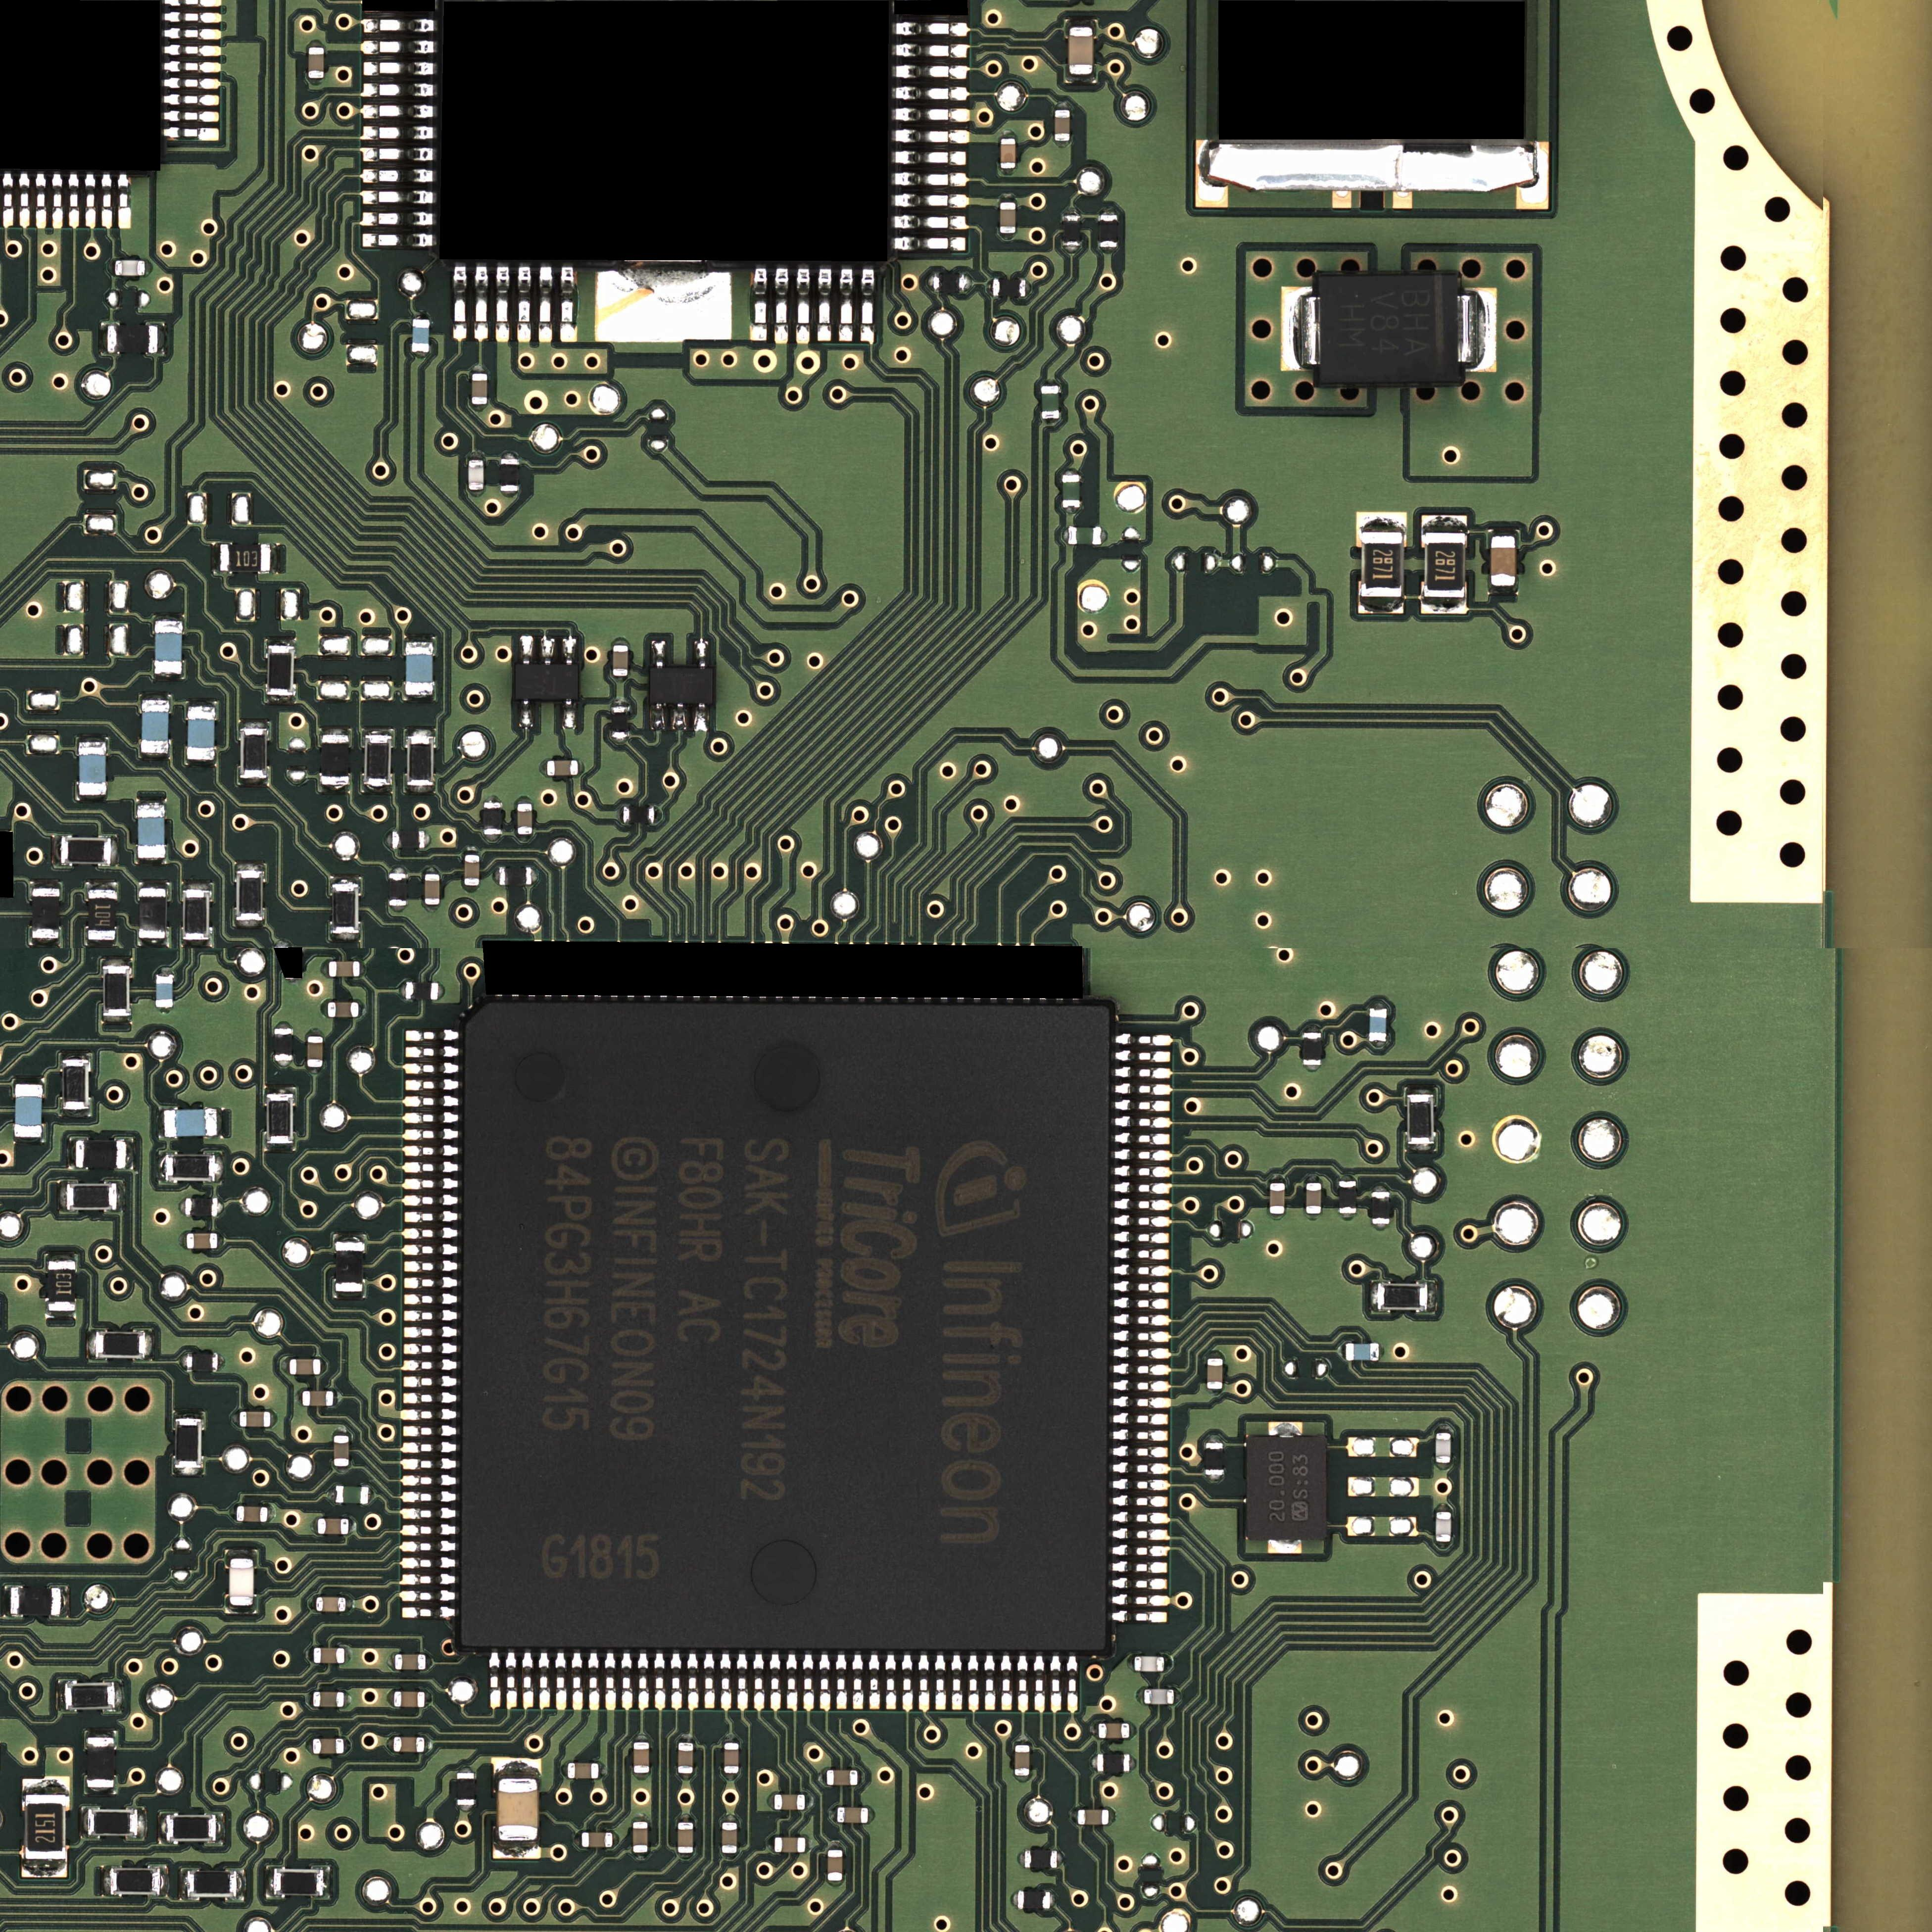Package: (462, 1007, 1108, 1645), (1306, 272, 1474, 386), (1244, 1435, 1327, 1539), (25, 1794, 67, 1859), (1361, 533, 1403, 598), (1424, 533, 1465, 598), (497, 1778, 538, 1840), (649, 667, 713, 702), (515, 663, 579, 699), (154, 621, 182, 674), (405, 642, 433, 695), (14, 1085, 42, 1138), (188, 706, 214, 759), (142, 701, 168, 754), (138, 805, 165, 858), (32, 888, 60, 938), (320, 734, 349, 784), (11, 1587, 60, 1615), (87, 1737, 115, 1787), (76, 1139, 126, 1168), (336, 1242, 364, 1292), (1378, 1283, 1428, 1311), (80, 743, 106, 794), (60, 839, 111, 865), (219, 545, 271, 571), (165, 1109, 216, 1136), (108, 326, 157, 352), (267, 646, 294, 695), (88, 890, 115, 939), (140, 888, 166, 938), (407, 736, 433, 786), (364, 736, 391, 786), (241, 729, 267, 778), (48, 1261, 74, 1311), (65, 1683, 115, 1709), (67, 1184, 117, 1210), (96, 1330, 145, 1357), (166, 1815, 216, 1842), (188, 1870, 235, 1897), (333, 883, 357, 932), (184, 890, 209, 939), (237, 870, 262, 920), (88, 1810, 138, 1835), (267, 1093, 292, 1143), (110, 1868, 159, 1893), (104, 966, 129, 1016), (64, 1060, 88, 1109), (1491, 536, 1516, 586), (274, 1870, 322, 1895), (175, 1419, 200, 1467), (166, 1155, 214, 1180), (1069, 27, 1093, 74), (1408, 1095, 1433, 1143), (230, 1559, 253, 1605), (483, 801, 502, 835), (932, 272, 966, 292), (993, 278, 1026, 297), (1040, 386, 1060, 419), (1371, 1191, 1391, 1224), (1205, 1442, 1224, 1476), (186, 1198, 218, 1217), (1099, 216, 1118, 248), (1097, 1753, 1129, 1773), (1024, 1849, 1056, 1868), (1338, 1182, 1357, 1214), (412, 318, 430, 352), (499, 867, 533, 885), (501, 458, 518, 492), (458, 1773, 476, 1806), (1062, 474, 1079, 508), (1369, 1008, 1387, 1042), (156, 975, 173, 1007), (389, 874, 407, 906), (393, 832, 425, 849), (336, 1486, 368, 1504), (274, 1028, 292, 1060), (1069, 527, 1100, 545), (1304, 1033, 1322, 1065), (1346, 1343, 1378, 1361), (1017, 1891, 1049, 1909), (405, 982, 437, 1000), (188, 1353, 218, 1371), (1063, 216, 1081, 246), (472, 373, 488, 405), (612, 706, 628, 738), (623, 807, 655, 823), (826, 1769, 858, 1785), (239, 1412, 271, 1428), (313, 1647, 345, 1663), (678, 1743, 694, 1775), (1000, 202, 1016, 234), (1054, 110, 1070, 142), (1077, 1808, 1109, 1824), (329, 961, 359, 977), (612, 646, 628, 676), (517, 803, 533, 833), (115, 260, 145, 276), (464, 855, 479, 885), (469, 460, 485, 490), (308, 48, 324, 78), (313, 1691, 343, 1707), (313, 1737, 343, 1753), (582, 1831, 612, 1847), (290, 1359, 320, 1375), (188, 1233, 218, 1249), (327, 1001, 357, 1017), (395, 1691, 425, 1707), (568, 1762, 598, 1778), (775, 1794, 805, 1810), (303, 1391, 333, 1407), (837, 1806, 867, 1822), (395, 1654, 425, 1670), (678, 1822, 694, 1852), (237, 1506, 267, 1522), (306, 1037, 322, 1067), (318, 1518, 349, 1534), (724, 1743, 740, 1773), (775, 1836, 805, 1852), (722, 1822, 738, 1852), (633, 1743, 649, 1773), (1207, 1359, 1223, 1389), (1099, 1723, 1129, 1739), (1145, 1688, 1175, 1704), (1435, 1511, 1451, 1541), (1306, 1184, 1322, 1214), (1435, 1433, 1451, 1463), (1134, 1656, 1164, 1672), (547, 761, 579, 775), (393, 1737, 425, 1752), (317, 1596, 345, 1612), (334, 1435, 349, 1467), (1016, 1744, 1030, 1776), (425, 874, 439, 904), (828, 1851, 842, 1881), (633, 1822, 648, 1852), (1001, 138, 1016, 168), (1270, 1184, 1284, 1214)
Solder: (1198, 142, 1550, 209), (596, 269, 731, 341), (1477, 287, 1499, 373), (1283, 287, 1300, 372), (750, 267, 768, 341), (892, 193, 968, 209), (517, 265, 533, 341), (561, 265, 577, 341), (860, 267, 876, 341), (893, 42, 968, 58), (363, 211, 437, 226), (495, 265, 510, 343), (474, 264, 488, 341), (453, 264, 467, 341), (538, 264, 552, 341), (796, 267, 810, 343), (893, 87, 968, 101), (893, 65, 968, 80), (893, 108, 968, 122), (893, 129, 968, 143), (893, 172, 968, 186), (893, 150, 968, 165), (893, 235, 968, 249), (893, 214, 968, 228), (839, 267, 853, 341), (817, 267, 832, 341), (363, 41, 437, 55), (363, 62, 437, 76), (363, 83, 437, 97), (363, 126, 437, 140), (363, 147, 437, 161), (363, 168, 437, 182), (363, 104, 437, 119), (363, 189, 437, 203), (893, 21, 966, 35), (364, 19, 437, 34), (363, 234, 435, 248), (492, 1759, 541, 1778), (492, 1840, 541, 1859), (1357, 511, 1407, 531), (775, 265, 787, 343), (21, 1859, 67, 1877), (1421, 515, 1467, 533), (23, 1778, 69, 1794), (1359, 598, 1405, 614), (1421, 598, 1467, 614), (163, 44, 221, 57), (163, 127, 221, 140), (522, 1649, 534, 1707), (587, 1651, 600, 1709), (571, 1651, 584, 1709), (671, 1651, 683, 1709), (621, 1651, 633, 1709), (637, 1651, 649, 1709), (918, 1652, 931, 1711), (934, 1652, 947, 1711), (984, 1652, 996, 1711), (968, 1652, 980, 1711), (1001, 1652, 1014, 1711), (1017, 1652, 1030, 1711), (950, 1652, 962, 1711), (1067, 1652, 1079, 1711), (119, 172, 131, 228), (101, 172, 113, 228), (85, 172, 97, 228), (67, 172, 80, 228), (34, 172, 46, 228), (18, 172, 30, 228), (2, 172, 14, 228), (51, 172, 64, 228), (538, 1651, 550, 1707), (720, 1652, 732, 1709), (736, 1652, 748, 1709), (869, 1652, 881, 1709), (819, 1652, 832, 1709), (835, 1652, 847, 1709), (770, 1652, 782, 1709), (163, 12, 221, 23), (163, 28, 221, 39), (163, 62, 221, 73), (163, 94, 221, 104), (163, 111, 221, 122), (163, 78, 221, 88), (490, 1649, 501, 1707), (506, 1649, 517, 1707), (556, 1651, 566, 1709), (688, 1651, 699, 1709), (853, 1652, 863, 1711), (902, 1652, 913, 1711), (754, 1651, 764, 1709), (803, 1652, 814, 1711), (1035, 1652, 1046, 1711), (405, 1030, 462, 1040), (405, 1063, 462, 1074), (405, 1079, 462, 1090), (403, 1097, 460, 1108), (403, 1113, 460, 1123), (403, 1145, 460, 1155), (403, 1178, 460, 1189), (402, 1392, 458, 1403), (402, 1458, 458, 1468), (605, 1652, 616, 1709), (704, 1652, 715, 1709), (655, 1652, 665, 1709), (886, 1652, 897, 1709), (787, 1652, 798, 1709), (1051, 1654, 1062, 1711), (1113, 1445, 1169, 1456), (1113, 1463, 1169, 1474), (1113, 1414, 1169, 1424), (1113, 1299, 1169, 1309), (1113, 1281, 1169, 1292), (1113, 1265, 1169, 1276), (1115, 1215, 1171, 1226), (1115, 1200, 1171, 1210), (1115, 1166, 1171, 1177), (1115, 1150, 1171, 1161), (1115, 1085, 1171, 1095), (1111, 1612, 1168, 1622), (405, 1129, 460, 1139), (403, 1277, 458, 1288), (403, 1261, 458, 1272), (403, 1244, 458, 1254), (403, 1228, 458, 1238), (405, 1162, 460, 1173), (402, 1442, 456, 1453), (402, 1408, 456, 1419), (403, 1376, 458, 1387), (403, 1359, 458, 1369), (403, 1343, 458, 1353), (403, 1327, 458, 1338), (403, 1309, 458, 1320), (403, 1293, 458, 1304), (403, 1474, 458, 1484), (403, 1491, 458, 1502), (403, 1507, 458, 1518), (402, 1541, 456, 1552), (402, 1557, 456, 1568), (402, 1573, 456, 1583), (402, 1589, 456, 1599), (402, 1606, 456, 1617), (1113, 1430, 1168, 1440), (1115, 1380, 1169, 1391), (1115, 1364, 1169, 1375), (1115, 1348, 1169, 1359), (1115, 1330, 1169, 1341), (1115, 1315, 1169, 1325), (1115, 1249, 1169, 1260), (1115, 1233, 1169, 1244), (1115, 1134, 1169, 1145), (1115, 1100, 1169, 1111), (1116, 1051, 1171, 1062), (1116, 1035, 1171, 1046), (1113, 1594, 1168, 1605), (1113, 1578, 1168, 1589), (1113, 1545, 1168, 1555), (1113, 1529, 1168, 1539), (1115, 1513, 1169, 1523), (1115, 1497, 1169, 1507), (1115, 1479, 1169, 1490), (405, 1212, 458, 1223), (405, 1047, 462, 1056), (1115, 1184, 1171, 1192), (405, 1196, 460, 1205), (402, 1426, 456, 1435), (403, 1525, 458, 1534), (1115, 1398, 1169, 1407), (1115, 1118, 1169, 1127), (1116, 1069, 1171, 1077), (1113, 1562, 1168, 1571), (1269, 1422, 1302, 1437), (1269, 1539, 1302, 1553), (563, 701, 577, 729), (541, 637, 556, 665), (694, 704, 708, 731), (518, 701, 533, 727), (651, 702, 665, 729), (520, 635, 533, 665), (57, 1180, 67, 1214), (672, 704, 686, 729), (563, 637, 575, 665), (51, 835, 62, 867), (695, 640, 708, 667), (653, 640, 665, 667), (239, 718, 269, 729), (173, 1467, 203, 1477), (333, 1233, 366, 1242), (83, 1787, 117, 1796), (1428, 1281, 1437, 1315), (211, 541, 219, 573), (329, 876, 361, 885), (101, 957, 133, 966), (67, 1138, 76, 1169), (157, 1152, 166, 1184), (126, 1139, 134, 1171), (87, 1329, 96, 1361), (85, 1729, 117, 1737), (101, 1865, 110, 1897), (225, 1605, 257, 1614), (159, 1865, 168, 1897), (265, 1867, 274, 1898), (60, 1585, 69, 1617), (138, 938, 168, 947), (235, 862, 265, 870), (182, 881, 212, 890), (87, 881, 117, 890), (30, 879, 60, 888), (180, 939, 211, 948), (138, 879, 168, 888), (110, 837, 119, 867), (265, 695, 295, 704), (30, 938, 60, 947), (363, 727, 393, 736), (405, 727, 435, 736), (154, 612, 184, 621), (173, 1410, 203, 1419), (265, 1143, 295, 1152), (214, 1154, 223, 1184), (265, 1085, 295, 1093), (46, 1253, 76, 1261), (46, 1311, 76, 1320), (136, 1808, 145, 1838), (226, 1550, 257, 1559), (1065, 74, 1095, 83), (1488, 586, 1518, 594), (1488, 527, 1518, 536), (320, 725, 349, 734), (1067, 18, 1095, 27), (58, 1679, 65, 1713), (329, 934, 361, 941), (76, 794, 108, 801), (237, 778, 269, 786), (140, 694, 172, 701), (403, 695, 435, 702), (115, 1681, 122, 1713), (180, 1868, 188, 1900), (159, 1812, 166, 1844), (81, 1806, 88, 1838), (324, 1867, 331, 1898), (216, 1813, 223, 1845), (4, 1585, 11, 1617), (1371, 1281, 1378, 1313), (265, 639, 295, 646), (87, 939, 117, 947), (136, 858, 166, 865), (186, 701, 216, 708), (136, 798, 166, 805), (235, 920, 265, 927), (271, 543, 278, 573), (363, 786, 393, 793), (186, 759, 216, 766), (405, 635, 435, 642), (405, 786, 435, 793), (60, 1109, 90, 1116), (117, 1182, 124, 1212), (14, 1077, 44, 1085), (60, 1053, 90, 1060), (145, 1330, 152, 1361), (157, 1108, 165, 1138), (334, 1292, 364, 1299), (216, 1108, 223, 1138), (237, 1870, 244, 1900), (1407, 1145, 1437, 1152), (1407, 1086, 1437, 1093), (101, 324, 108, 352), (103, 1016, 131, 1023), (157, 326, 165, 352), (483, 794, 502, 803), (152, 674, 184, 679), (76, 736, 108, 741), (140, 754, 170, 759), (320, 786, 350, 791), (12, 1138, 42, 1143), (384, 832, 393, 849), (156, 966, 173, 975), (306, 1028, 324, 1037), (501, 490, 518, 499), (1100, 527, 1109, 545), (1304, 1024, 1322, 1033), (1369, 1000, 1387, 1008), (1164, 1654, 1173, 1672), (272, 939, 294, 947), (145, 260, 154, 276), (308, 39, 324, 48), (464, 885, 479, 893), (232, 1410, 241, 1426), (320, 961, 329, 977), (333, 1426, 349, 1435), (320, 1001, 329, 1017), (281, 1359, 290, 1375), (310, 1518, 318, 1534), (327, 1486, 336, 1502), (343, 1691, 352, 1707), (531, 869, 540, 885), (517, 794, 533, 803), (612, 637, 628, 646), (678, 1813, 694, 1822), (724, 1773, 740, 1782), (722, 1813, 738, 1822), (573, 1831, 582, 1847), (598, 1762, 607, 1778), (867, 1806, 876, 1822), (633, 1734, 649, 1743), (1054, 101, 1070, 110), (1000, 193, 1016, 202), (964, 274, 973, 290), (1269, 1175, 1284, 1184), (1207, 1350, 1223, 1359), (1129, 1755, 1138, 1771), (1173, 1688, 1182, 1704), (1136, 1688, 1145, 1704), (1435, 1541, 1451, 1550), (1435, 1424, 1451, 1433), (483, 835, 502, 842), (610, 699, 630, 706), (1062, 246, 1081, 253), (1205, 1476, 1224, 1483), (1010, 1890, 1017, 1909), (218, 1198, 225, 1217), (106, 260, 115, 274), (469, 451, 483, 460), (412, 311, 430, 318), (389, 906, 407, 913), (492, 867, 499, 885), (389, 867, 407, 874), (439, 982, 446, 1000), (179, 1233, 188, 1247), (180, 1353, 188, 1371), (398, 982, 405, 1000), (386, 1691, 395, 1706), (308, 1596, 317, 1610), (425, 1691, 433, 1706), (456, 1805, 474, 1812), (228, 1506, 237, 1520), (456, 1766, 474, 1773), (501, 451, 518, 458), (766, 1794, 775, 1808), (828, 1842, 842, 1851), (633, 1813, 648, 1822), (1042, 379, 1060, 386), (985, 278, 993, 295), (1063, 207, 1081, 214), (1062, 467, 1079, 474), (1339, 1214, 1357, 1221), (1304, 1065, 1322, 1072), (1378, 1343, 1385, 1361), (1369, 1042, 1387, 1049), (1371, 1184, 1389, 1191), (1017, 1851, 1024, 1868), (1205, 1435, 1223, 1442), (1058, 1851, 1065, 1868), (1049, 1891, 1056, 1909), (1435, 1504, 1453, 1511), (179, 1198, 186, 1215), (285, 978, 303, 985), (471, 405, 487, 412), (412, 352, 428, 359), (469, 490, 485, 497), (308, 78, 324, 85), (464, 847, 479, 855), (425, 904, 441, 911), (425, 832, 432, 847), (359, 961, 366, 977), (306, 1067, 322, 1074), (218, 1233, 225, 1249), (156, 1007, 172, 1014), (271, 1410, 278, 1426), (218, 1353, 225, 1369), (347, 1596, 354, 1612), (343, 1737, 350, 1753), (386, 1736, 393, 1752), (387, 1654, 395, 1670), (349, 1518, 356, 1534), (368, 1486, 375, 1502), (425, 1736, 432, 1752), (267, 1506, 274, 1522), (333, 1467, 349, 1474), (345, 1647, 352, 1663), (306, 1647, 313, 1663), (306, 1737, 313, 1753), (517, 835, 533, 842), (655, 807, 662, 823), (540, 759, 547, 775), (579, 759, 586, 775), (678, 1773, 694, 1780), (678, 1852, 694, 1859), (858, 1769, 865, 1785), (678, 1736, 694, 1743), (830, 1806, 837, 1822), (612, 1831, 619, 1847), (768, 1836, 775, 1852), (633, 1773, 649, 1780), (805, 1794, 812, 1810), (819, 1769, 826, 1785), (722, 1852, 738, 1859), (724, 1736, 740, 1743), (805, 1836, 812, 1852), (1000, 234, 1016, 241), (1000, 168, 1016, 175), (1054, 142, 1070, 149), (1000, 131, 1016, 138), (1100, 246, 1116, 253), (1062, 527, 1069, 543), (1339, 1175, 1355, 1182), (1207, 1389, 1223, 1396), (1373, 1224, 1389, 1231), (1339, 1343, 1346, 1359), (1306, 1177, 1322, 1184), (1306, 1214, 1322, 1221), (1108, 1808, 1115, 1824), (1070, 1808, 1077, 1824), (1090, 1755, 1097, 1771), (1127, 1654, 1134, 1670), (1435, 1463, 1451, 1470), (1099, 209, 1118, 214), (425, 867, 439, 874), (359, 1001, 366, 1016), (295, 1391, 303, 1405), (333, 1391, 340, 1405), (320, 1359, 327, 1373), (426, 1654, 433, 1668), (306, 1691, 313, 1706), (561, 1762, 568, 1776), (828, 1881, 842, 1888), (633, 1852, 648, 1859), (1270, 1214, 1284, 1221), (1092, 1723, 1099, 1737), (1129, 1723, 1136, 1737), (1016, 1737, 1030, 1744), (1026, 280, 1031, 297), (1042, 419, 1060, 425), (1062, 508, 1079, 513), (471, 368, 487, 373), (927, 274, 932, 290), (612, 738, 628, 743), (612, 676, 628, 681), (617, 807, 623, 823), (1016, 1776, 1030, 1782)
